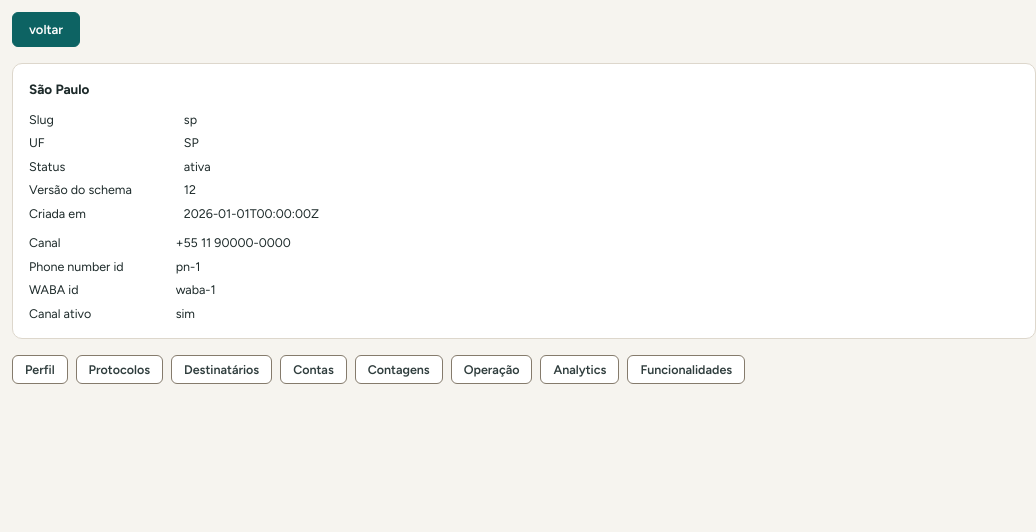
Test case: CityDetail › carrega só o topo (plataforma + canal) ao abrir; cada aba consulta só quando aberta
Check: the heading "São Paulo" is shown, box 29,80 -> 89,99
Check: the text "+55 11 90000-0000" is shown, box 176,235 -> 291,250
Click the button "Contas": (313, 370) 280,355 -> 347,384
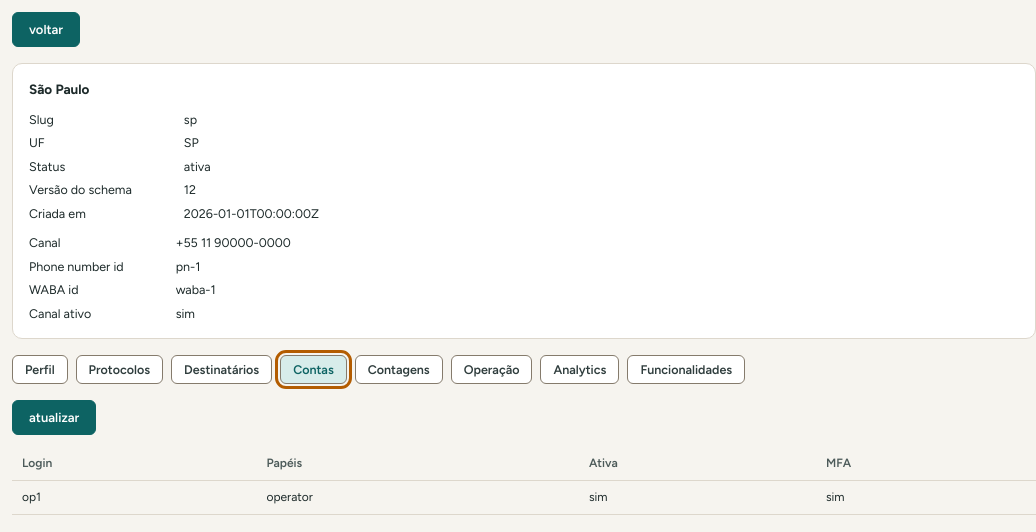
Check: the text "op1" is shown, box 12,481 -> 256,514
